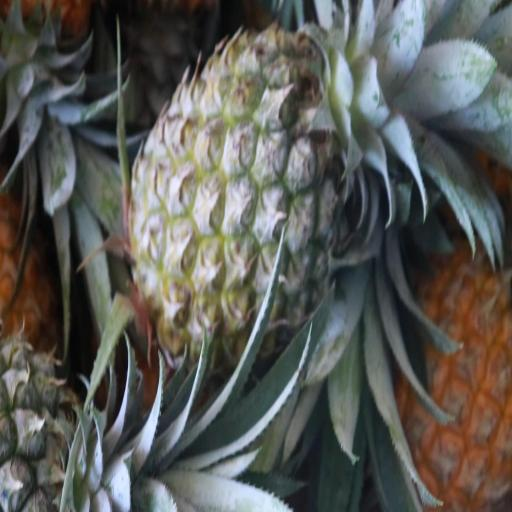------------------------------: (131, 33, 357, 366)
Pineapple - v8 v1: (394, 218, 512, 509)
